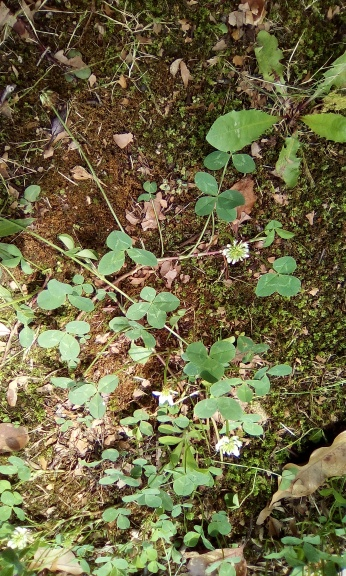4leaf: (194, 171, 246, 223), (125, 285, 181, 330)
